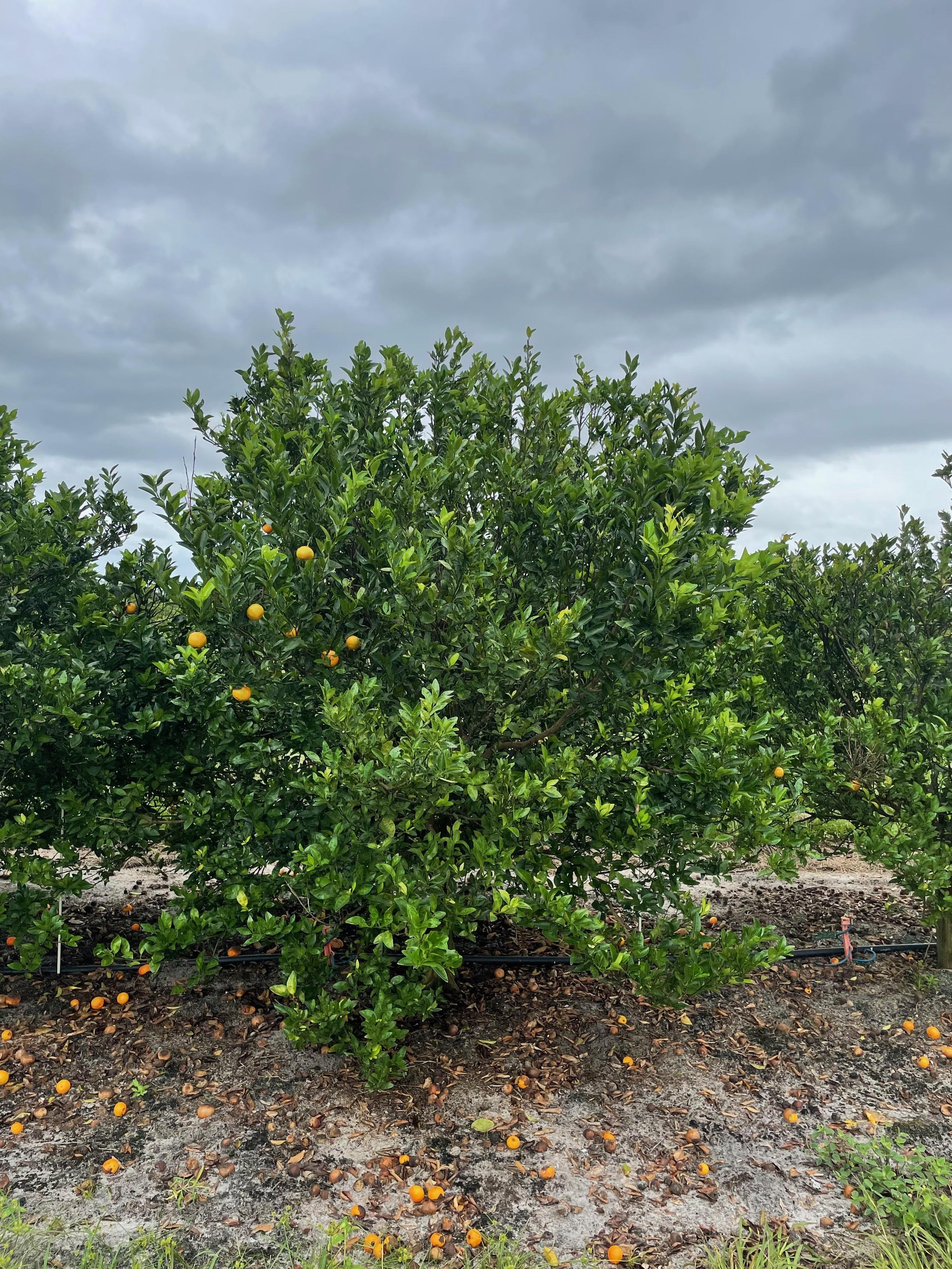fruit_on_ground: (318, 647, 341, 670), (186, 629, 209, 651), (230, 682, 254, 703), (245, 601, 266, 623), (343, 633, 363, 652), (295, 544, 315, 563), (281, 622, 301, 640), (123, 600, 140, 616), (846, 778, 861, 794), (771, 765, 787, 779), (261, 520, 275, 535)
fruit_on_tree: (363, 1232, 384, 1256), (605, 1243, 625, 1265), (381, 1231, 401, 1252), (464, 1227, 483, 1247), (101, 1156, 121, 1175), (782, 1105, 801, 1124), (425, 1183, 444, 1202), (683, 1126, 702, 1144), (408, 1185, 427, 1203), (196, 1102, 216, 1119), (18, 1050, 37, 1067), (3, 991, 23, 1007), (218, 1159, 236, 1176), (504, 1133, 522, 1150), (54, 1077, 72, 1094), (419, 1201, 439, 1216), (429, 1230, 446, 1247), (924, 1023, 941, 1040), (515, 1073, 531, 1090), (111, 1101, 128, 1117), (327, 1168, 344, 1184), (539, 1164, 556, 1180), (378, 1155, 396, 1170), (96, 1086, 115, 1100), (445, 1022, 461, 1038), (361, 1172, 378, 1187), (348, 1203, 365, 1218), (842, 1183, 857, 1199), (696, 1160, 711, 1176), (115, 990, 131, 1005), (777, 1019, 794, 1033), (602, 1128, 617, 1143), (225, 945, 241, 959), (89, 995, 105, 1009), (0, 1026, 13, 1043), (937, 1043, 952, 1057), (535, 1140, 550, 1154), (103, 1022, 118, 1036), (902, 1017, 917, 1031), (138, 962, 153, 976), (10, 1120, 25, 1134), (180, 1082, 196, 1095), (917, 1054, 931, 1068), (240, 1003, 255, 1016), (3, 934, 18, 947), (0, 1068, 11, 1085), (583, 1127, 597, 1140), (492, 966, 506, 979), (621, 1053, 634, 1067), (696, 1044, 710, 1056), (252, 1014, 266, 1026), (158, 1048, 172, 1060), (33, 1107, 47, 1119), (234, 985, 246, 998), (68, 996, 80, 1009), (397, 1152, 410, 1164), (502, 1082, 514, 1094), (676, 926, 689, 937), (608, 1025, 620, 1036), (121, 902, 133, 913), (617, 1014, 628, 1025), (616, 936, 628, 946), (130, 921, 142, 931), (709, 915, 719, 925), (702, 940, 713, 949)
